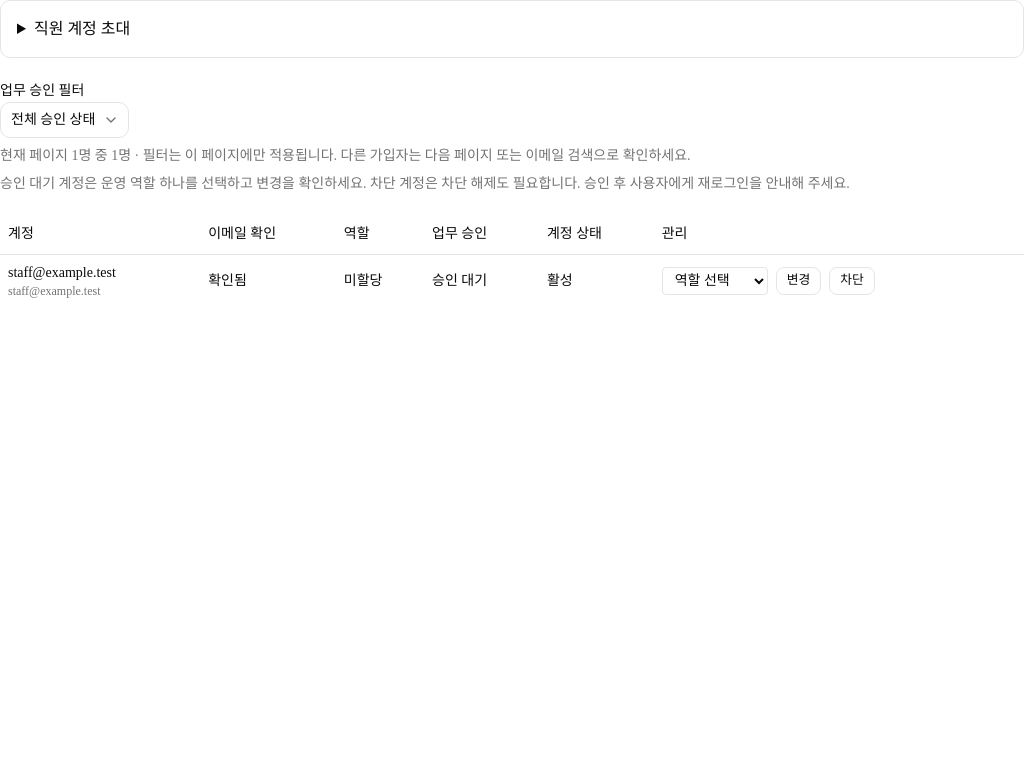
Test case: shows API failure and re-enables the role submit button
Select "재무 담당자" in the dropdown named "staff@example.test 역할" at [715, 280], box x1=662 y1=266 x2=768 y2=294
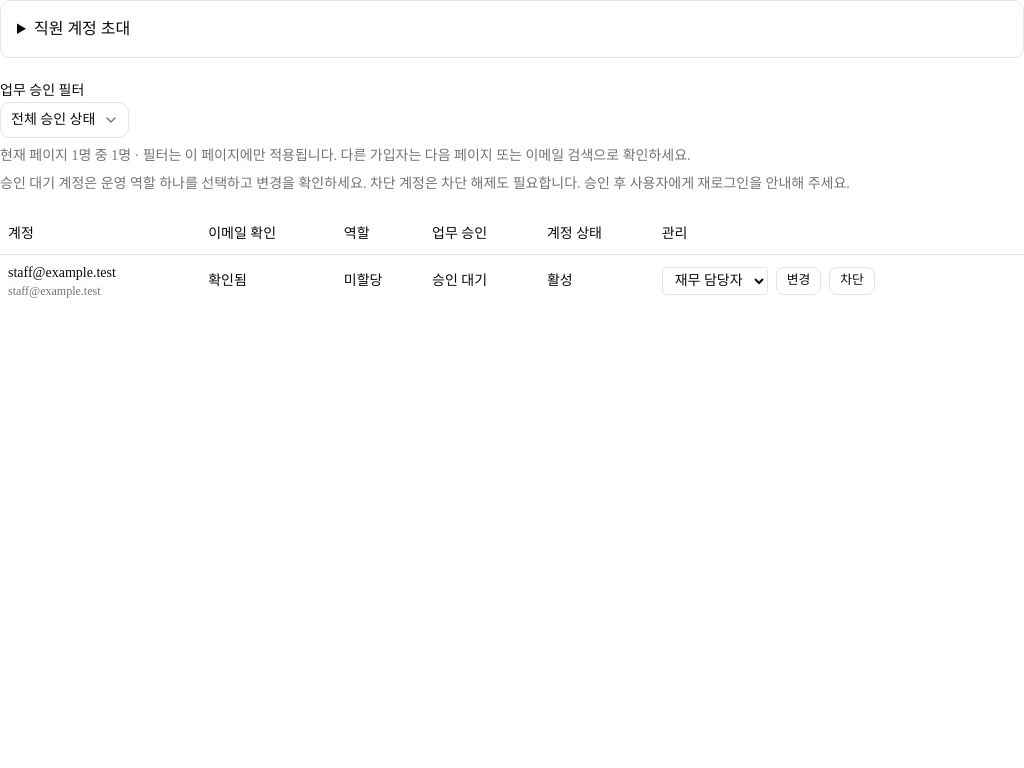
Click the button "변경" at [798, 280], box x1=776 y1=266 x2=821 y2=294
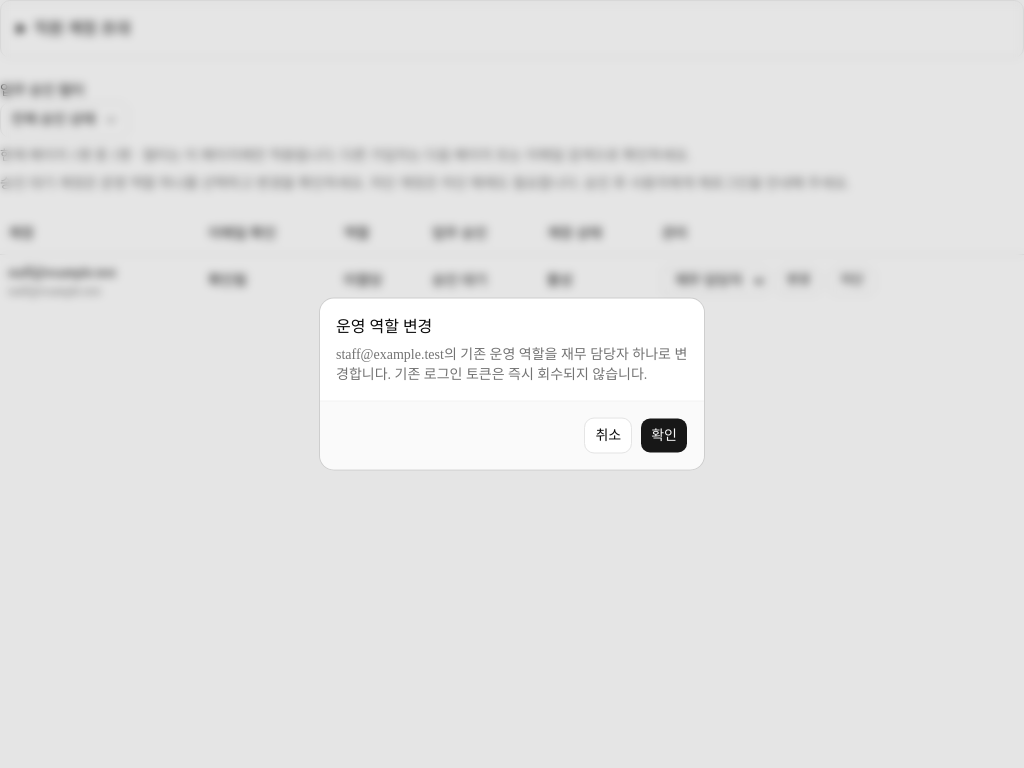
Click the button "확인" at [664, 436], box x1=640 y1=418 x2=688 y2=454
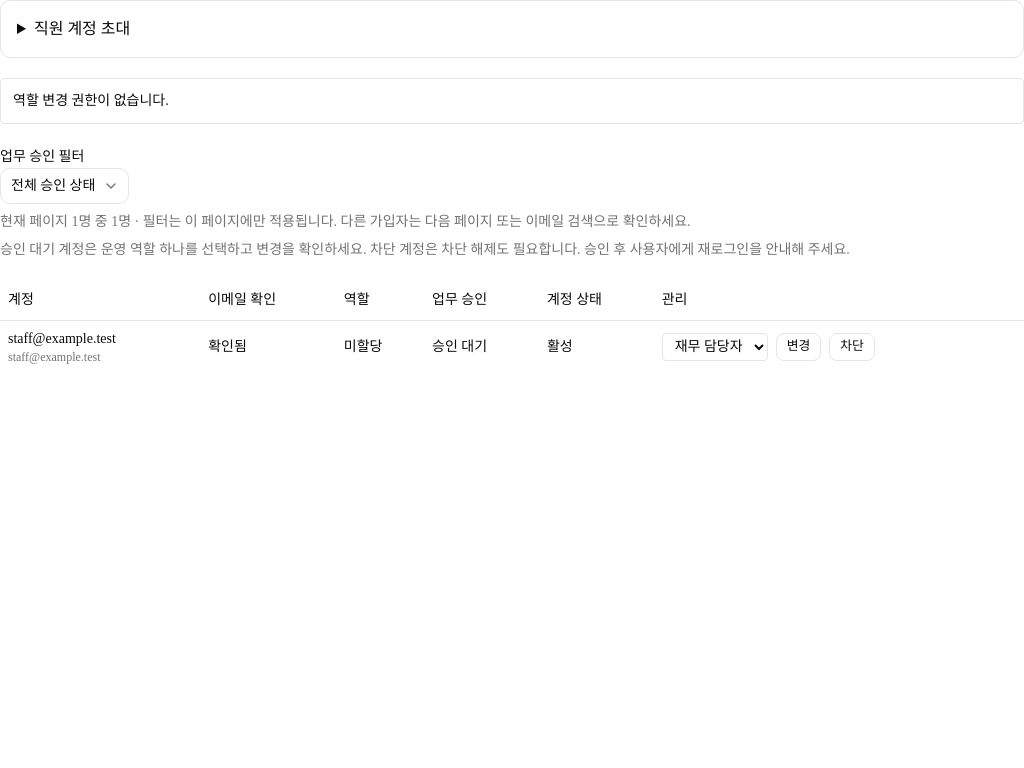
Check: the button "변경" is enabled, box x1=776 y1=332 x2=821 y2=360
Check: the message reads "역할 변경 권한이 없습니다.", box x1=13 y1=93 x2=169 y2=108
